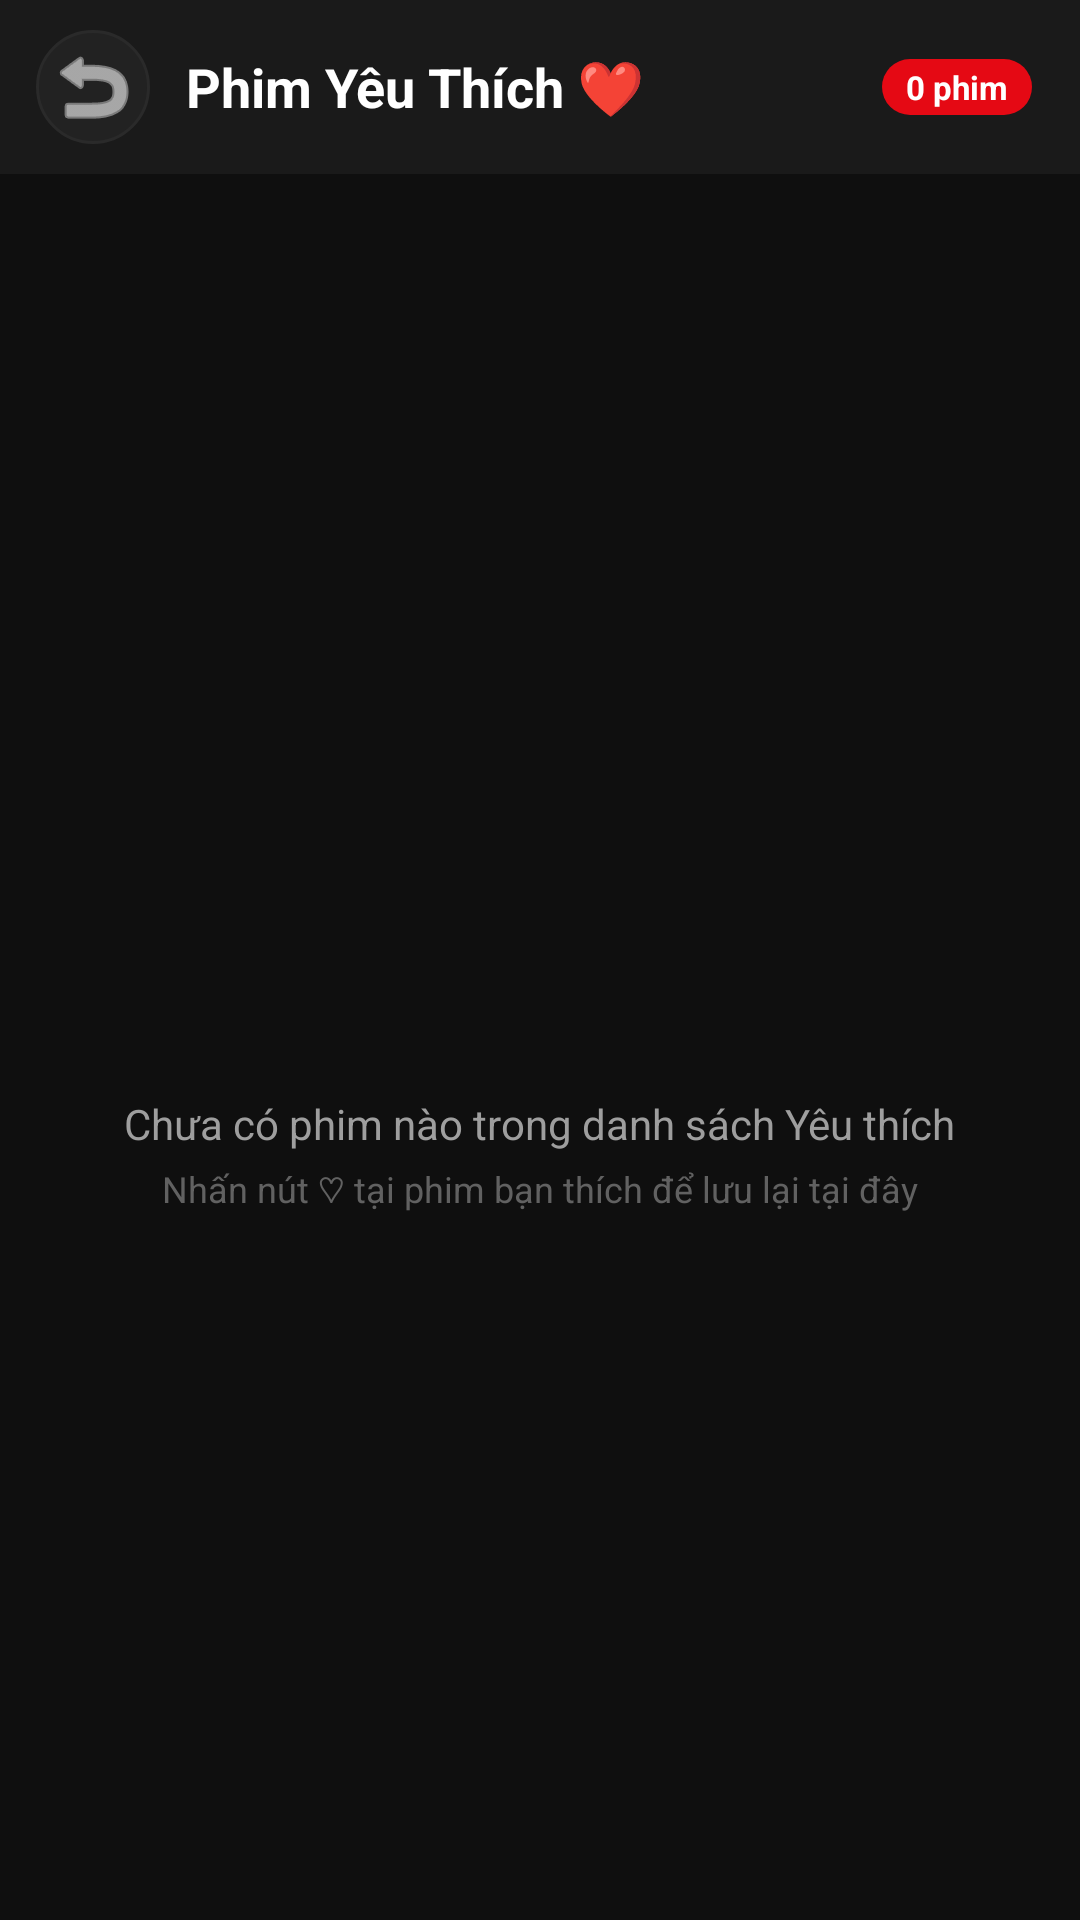

Where to tap for icons on this 1080×1920 app screen, as (x=x, y=y):
Quay lại: (x=94, y=87)
